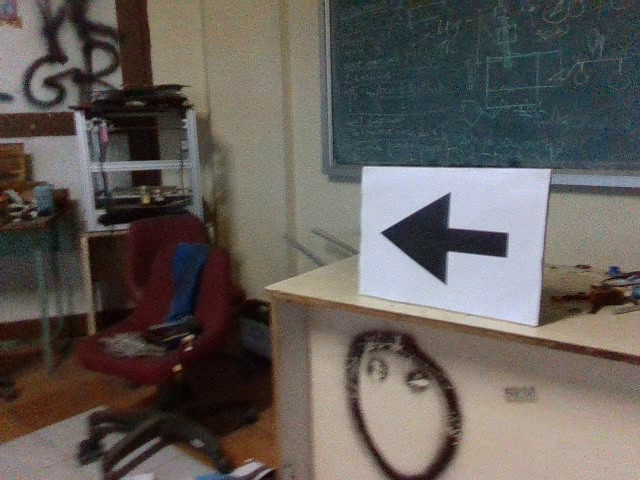Left: (371, 188, 515, 289)
